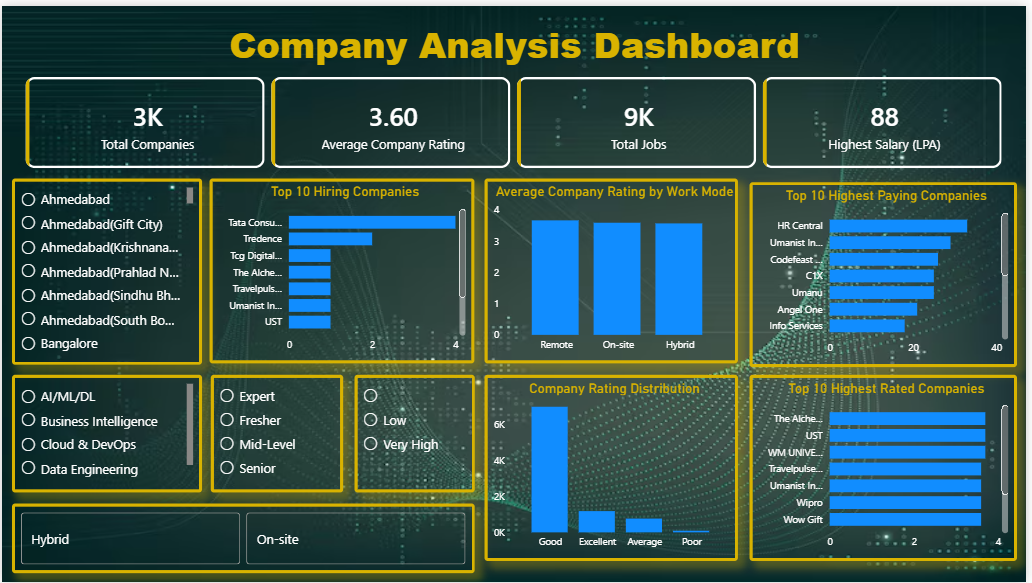

The dashboard page shown, as its layout file describes it:
{"tool":"powerbi","page":{"name":"Company Analysis Dashboard","canvas":[1280,720],"ordinal":2},"visuals":[{"type":"textbox","title":"Company Analysis Dashboard","box":[12.1,15.1,1256.1,90.6],"z":0},{"type":"cardVisual","fields":{"Data":["tech_jobs final_jobs_dataset.Total Companies","tech_jobs final_jobs_dataset.Average Company Rating","tech_jobs final_jobs_dataset.Total Jobs","tech_jobs final_jobs_dataset.Highest Salary (LPA)"]},"box":[12.5,71.9,1256.2,148.4],"z":1000},{"type":"clusteredColumnChart","title":"Average Company Rating by Work Mode","fields":{"Category":["tech_jobs final_jobs_dataset.work_mode"],"Y":["Avg(tech_jobs final_jobs_dataset.company_rating)"]},"box":[603.1,215.6,317.2,231.2],"z":3000},{"type":"clusteredBarChart","title":"Top 10 Highest Paying Companies","fields":{"Y":["Avg(tech_jobs final_jobs_dataset.salary_midpoint_lpa)"],"Category":["tech_jobs final_jobs_dataset.company_name"]},"box":[934.4,220.3,334.4,231.2],"z":4000},{"type":"clusteredBarChart","title":"Top 10 Highest Rated Companies","fields":{"Category":["tech_jobs final_jobs_dataset.company_name"],"Y":["Avg(tech_jobs final_jobs_dataset.company_rating)"]},"box":[934.4,460.9,334.4,232.8],"z":5000},{"type":"clusteredColumnChart","title":"Company Rating Distribution","fields":{"Category":["tech_jobs final_jobs_dataset.rating_category"],"Y":["CountNonNull(tech_jobs final_jobs_dataset.company_name)"]},"box":[603.1,460.9,317.2,232.8],"z":6000},{"type":"listSlicer","title":"Top 10 Hiring Companies","fields":{"Values":["tech_jobs final_jobs_dataset.experience_group"]},"box":[260.9,460.9,165.6,146.9],"z":7000},{"type":"listSlicer","title":"Top 10 Hiring Companies","fields":{"Values":["tech_jobs final_jobs_dataset.primary_city"]},"box":[12.5,215.6,237.5,232.8],"z":8000},{"type":"listSlicer","title":"Top 10 Hiring Companies","fields":{"Values":["tech_jobs final_jobs_dataset.skill_domain"]},"box":[12.5,460.9,237.5,146.9],"z":9000},{"type":"listSlicer","title":"Top 10 Hiring Companies","fields":{"Values":["tech_jobs final_jobs_dataset.salary_category"]},"box":[440.6,460.9,150,146.9],"z":10000},{"type":"advancedSlicerVisual","title":"Top 10 Hiring Companies","fields":{"Values":["tech_jobs final_jobs_dataset.work_mode"]},"box":[12.5,621.9,578.1,87.5],"z":11000},{"type":"clusteredBarChart","title":"Top 10 Hiring Companies","fields":{"Y":["CountNonNull(tech_jobs final_jobs_dataset.job_id)"],"Category":["tech_jobs final_jobs_dataset.company_name"]},"box":[259.4,215.6,331.2,231.2],"z":12000}]}

Visuals, with their boxes in screenshot pixels (x1, y1, x2, y2), scaled from the page's 1280x720 canvas onto the 1032x583 screenshot:
"Company Analysis Dashboard" textbox: l=10, t=12, r=1022, b=86
cardVisual - tech_jobs final_jobs_dataset.Total Companies x tech_jobs final_jobs_dataset.Average Company Rating: l=10, t=58, r=1023, b=178
"Average Company Rating by Work Mode" clusteredColumnChart: l=486, t=175, r=742, b=362
"Top 10 Highest Paying Companies" clusteredBarChart: l=753, t=178, r=1023, b=366
"Top 10 Highest Rated Companies" clusteredBarChart: l=753, t=373, r=1023, b=562
"Company Rating Distribution" clusteredColumnChart: l=486, t=373, r=742, b=562
"Top 10 Hiring Companies" listSlicer: l=210, t=373, r=344, b=492
"Top 10 Hiring Companies" listSlicer: l=10, t=175, r=202, b=363
"Top 10 Hiring Companies" listSlicer: l=10, t=373, r=202, b=492
"Top 10 Hiring Companies" listSlicer: l=355, t=373, r=476, b=492
"Top 10 Hiring Companies" advancedSlicerVisual: l=10, t=504, r=476, b=574
"Top 10 Hiring Companies" clusteredBarChart: l=209, t=175, r=476, b=362
